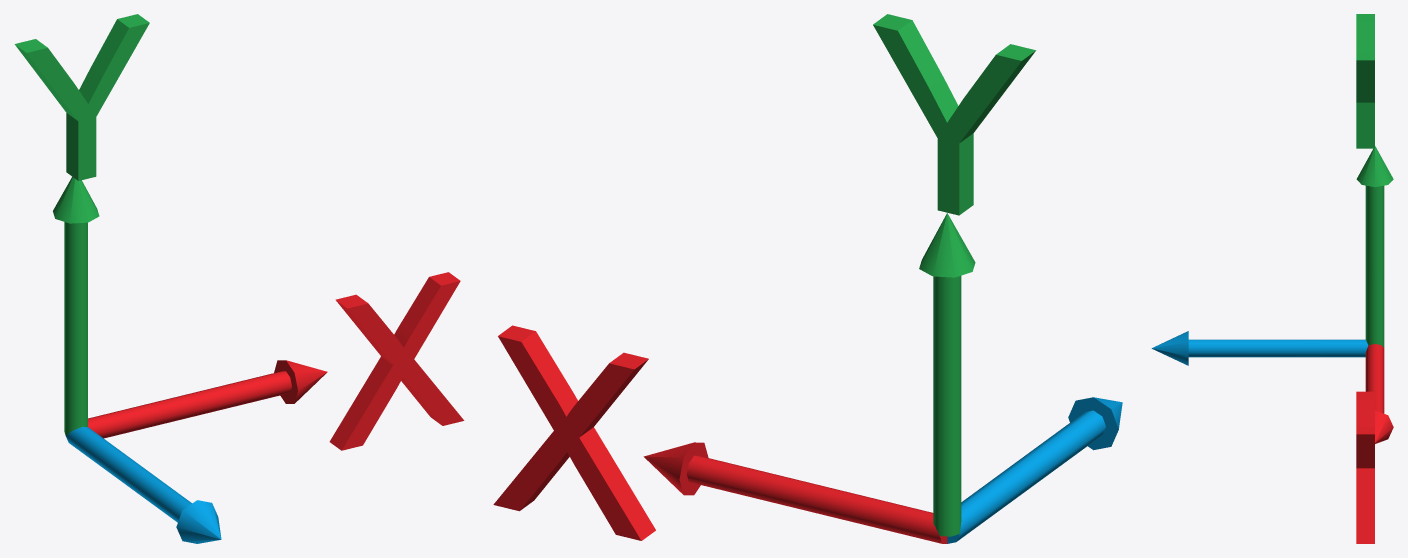
File: axis.obj
3 renders of one model, left to right at view 1: azimuth 30°, elevation 25°; view 2: azimuth 150°, elevation 25°; view 3: azimuth 270°, elevation 25°, orthographic. The views are drawn at different scales.
Visible parts, largest first — view 1: Text002, Text001, Cylinder002, Cylinder003, Cylinder001; view 2: Text002, Text001, Cylinder002, Cylinder003, Cylinder001; view 3: Cylinder001, Cylinder002, Text002, Text001, Cylinder003.
Part boxes in pixels (x1=…): Text002: x1=329, y1=272, x2=464, y2=450; Text001: x1=14, y1=14, x2=149, y2=180; Cylinder002: x1=53, y1=177, x2=99, y2=435; Cylinder003: x1=88, y1=360, x2=327, y2=438; Cylinder001: x1=66, y1=426, x2=221, y2=543; Text002: x1=493, y1=325, x2=655, y2=540; Text001: x1=873, y1=14, x2=1035, y2=215; Cylinder002: x1=919, y1=213, x2=975, y2=536; Cylinder003: x1=643, y1=442, x2=947, y2=543; Cylinder001: x1=947, y1=397, x2=1122, y2=543; Cylinder001: x1=1151, y1=331, x2=1368, y2=365; Cylinder002: x1=1356, y1=146, x2=1393, y2=347; Text002: x1=1356, y1=391, x2=1374, y2=543; Text001: x1=1356, y1=14, x2=1374, y2=148; Cylinder003: x1=1365, y1=344, x2=1393, y2=443.
Size of the model in its own units: 20.87 by 21.61 by 13.
Materials: 1 (1 with a texture image).
